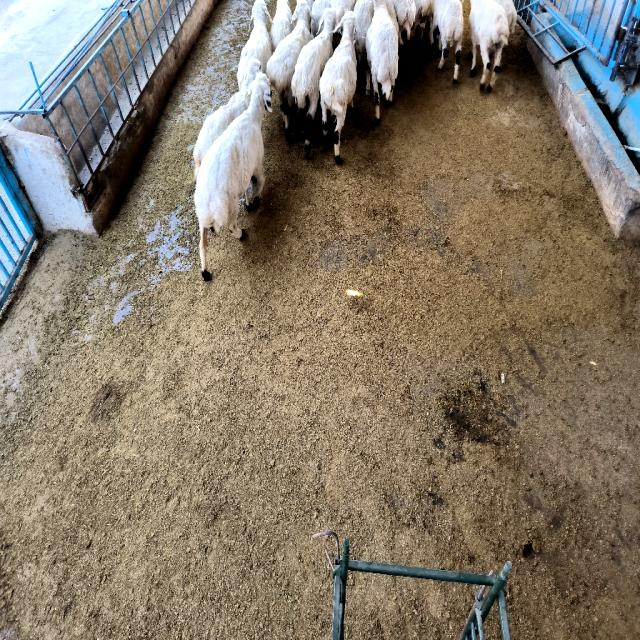sheep: (195, 73, 271, 280), (194, 58, 261, 179), (291, 8, 338, 154), (266, 0, 312, 137), (319, 12, 356, 162), (366, 0, 399, 122), (469, 0, 509, 92), (238, 0, 272, 89), (430, 0, 464, 82), (354, 0, 374, 94), (270, 0, 294, 49)
